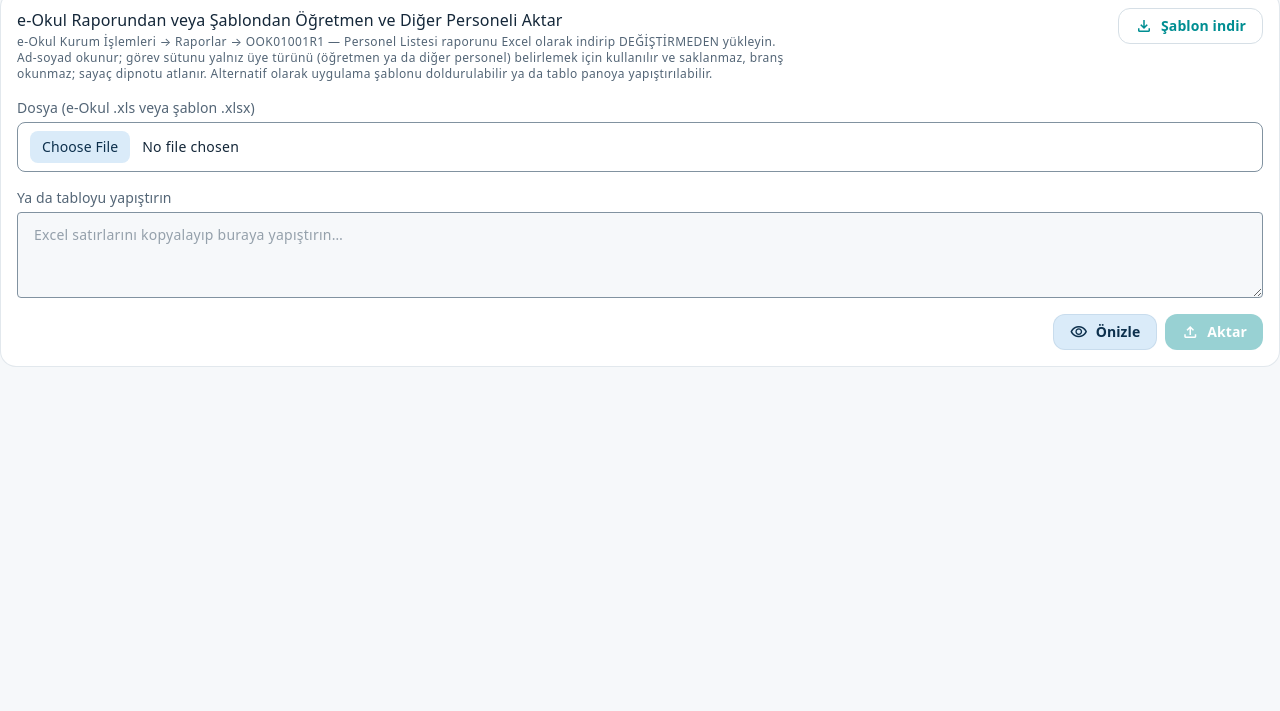
Test: AktarimPaneli — personel mutabakatı ve ayrılış havuzu › önizlemede olası aynı kişi gösterilir ama birleştirme aktarımdan sonra sunulur
In the text box labelled "Ya da tabloyu yapıştırın": (640, 255) [17, 212, 1263, 298], type "liste"
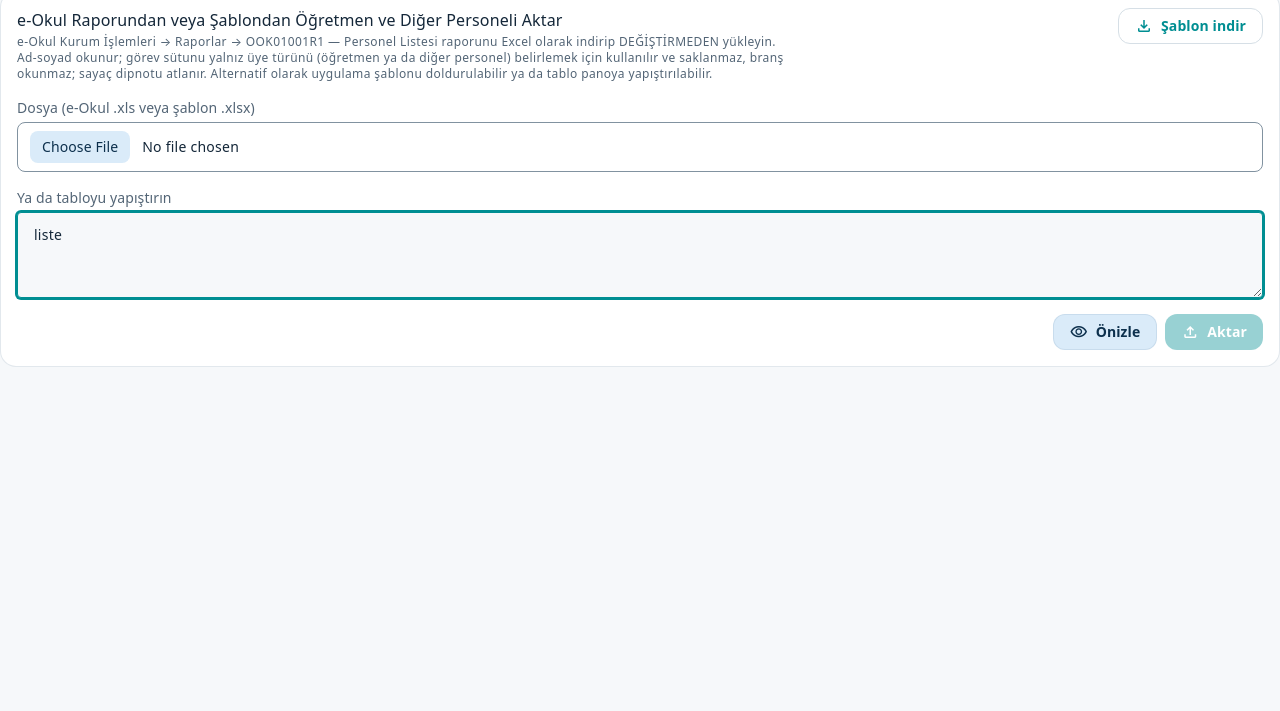
Click the button "Önizle": (1105, 332) [1053, 314, 1157, 350]
(page scrolled)
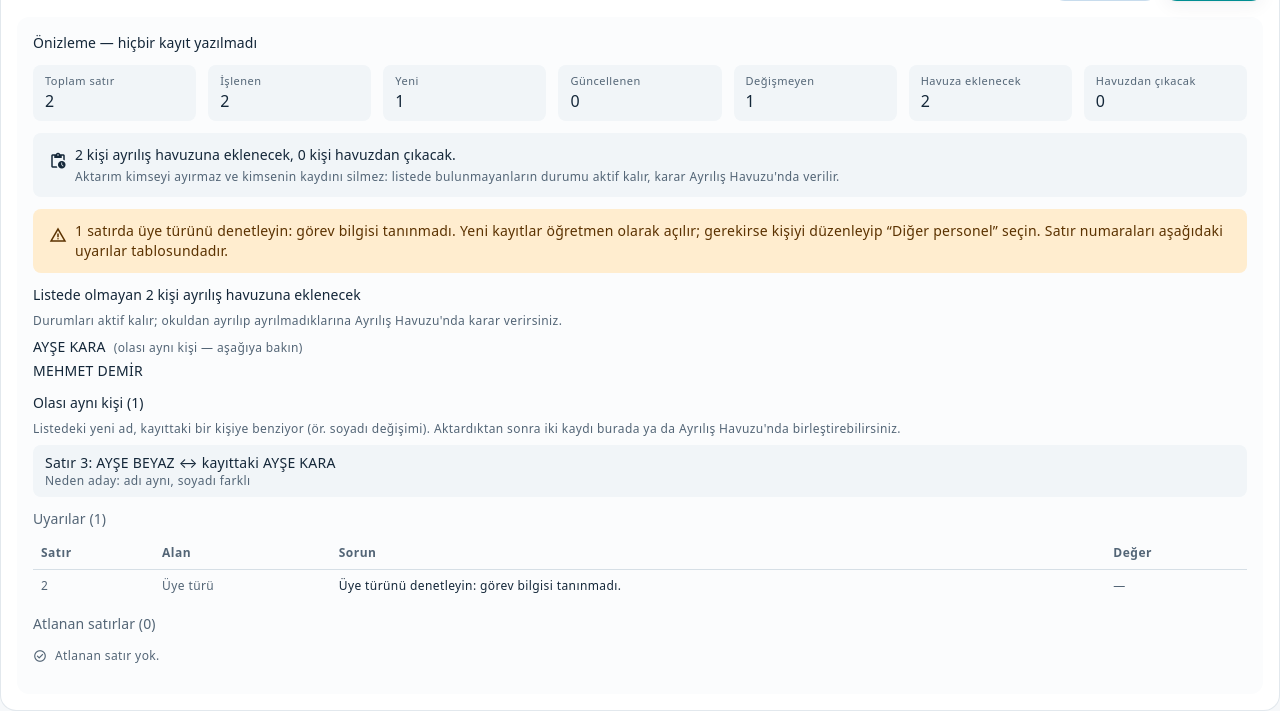
Now the text "Olası aynı kişi (1)" is shown, box [33, 393, 144, 412]
Now the text "Satır 3: AYŞE BEYAZ ↔ kayıttaki AYŞE KARA" is shown, box [45, 453, 336, 489]
Now the text "burada ya da Ayrılış Havuzu'nda birleştirebilirsiniz" is shown, box [33, 420, 901, 437]
